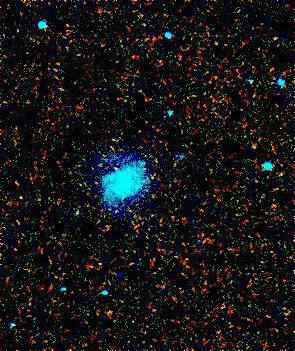star: (101, 156, 131, 186)
